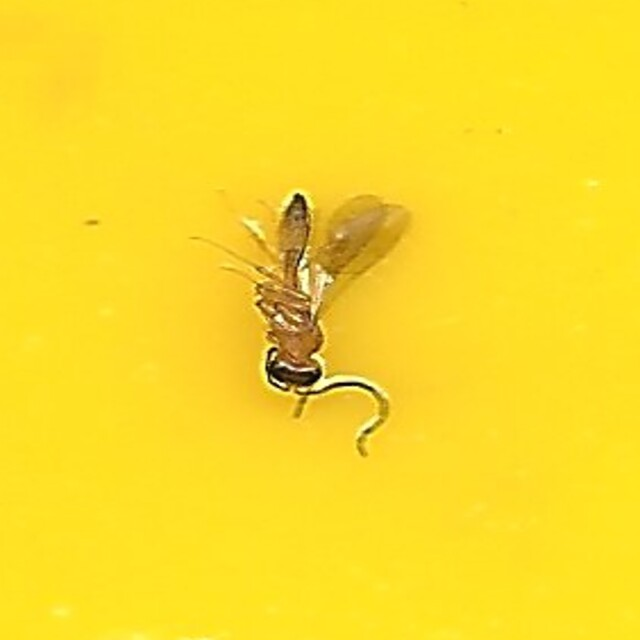Hymenoptera: (227, 184, 413, 456)
